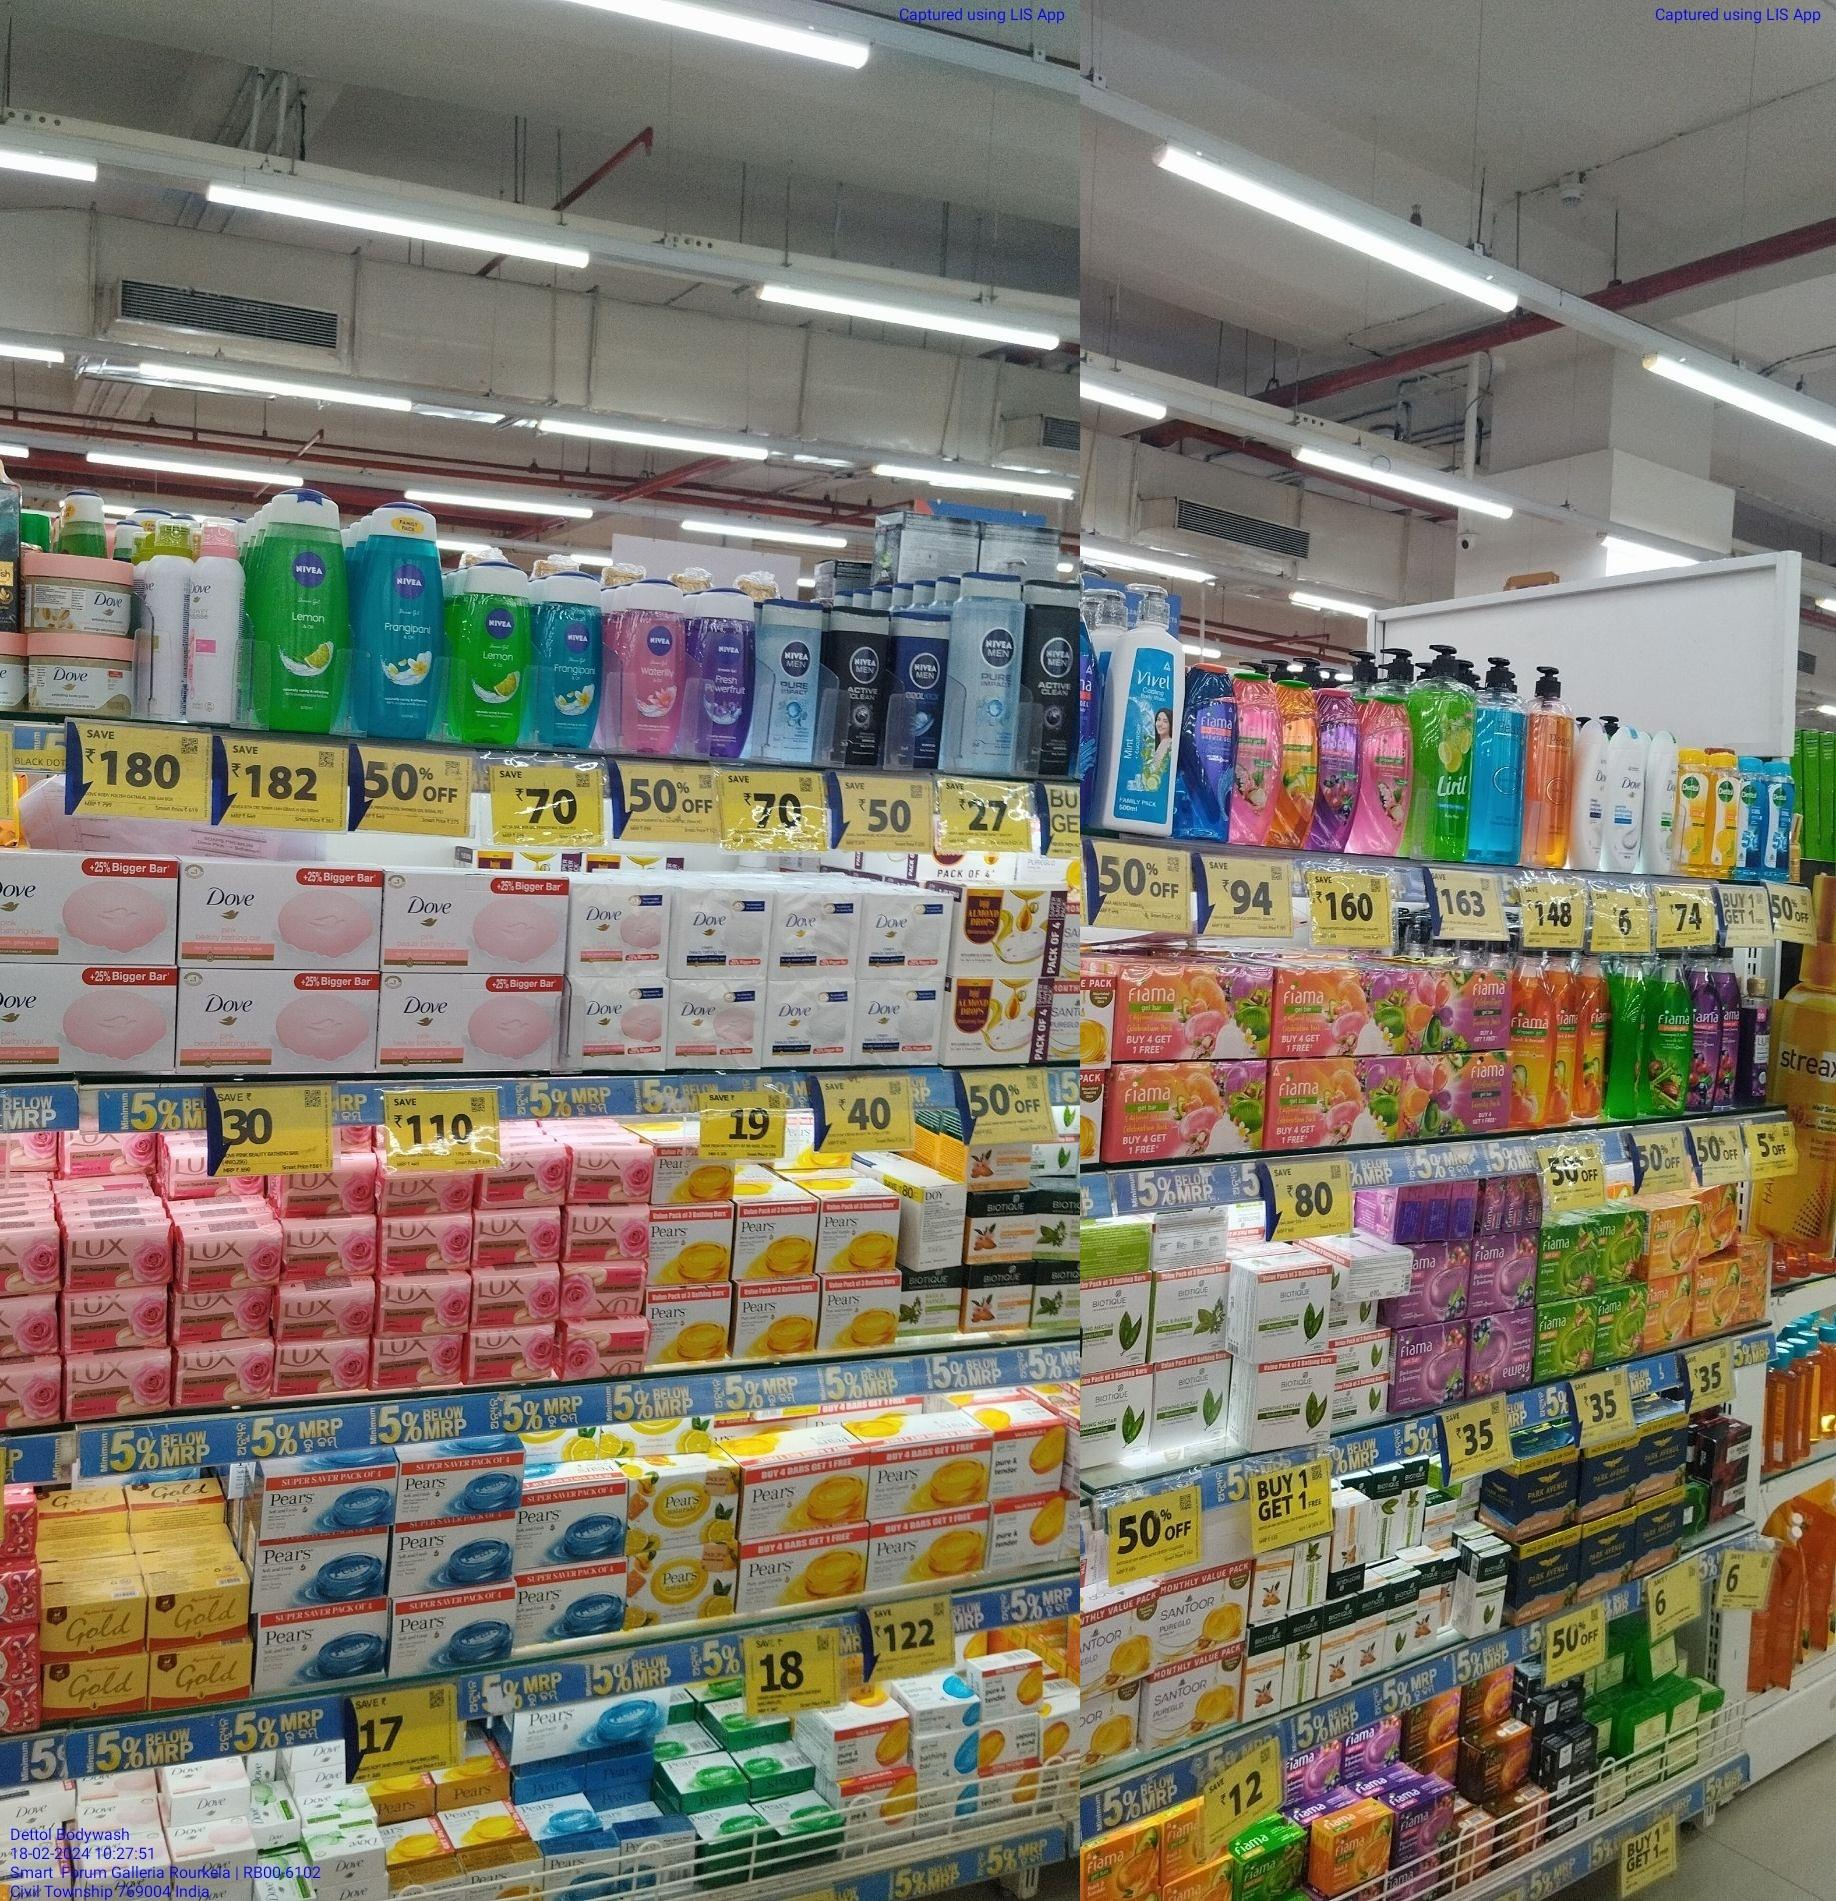Dettol_Bodywash_Cool: (1766, 754, 1794, 881), (1739, 755, 1765, 883)
Dettol_Bodywash_Refresh: (1675, 750, 1707, 878), (1709, 749, 1738, 881)
Dove_Gentle_Exfoliating_Body_Wash_250ML: (1607, 725, 1646, 876)
Fiama_Shower_Gel_Patchouli_and_Macadamia_250ML: (1359, 693, 1407, 861), (1232, 672, 1276, 849)
Fiama_Shower_Gel_Peach_and_Avocado_250ML: (1276, 677, 1317, 847)
Nivea_Shower_Gel_Frangipani_and_Oil_250ML: (358, 509, 445, 743), (535, 567, 601, 749)
Nivea_Shower_Gel_Fresh_Powerfruit_250ML: (686, 586, 748, 764)
Nivea_Shower_Gel_Lemon_and_Oil_250ML: (255, 487, 341, 728), (460, 565, 526, 745)
Nivea_Shower_Gel_Waterlily_and_Oil_250ML: (623, 584, 686, 759)
